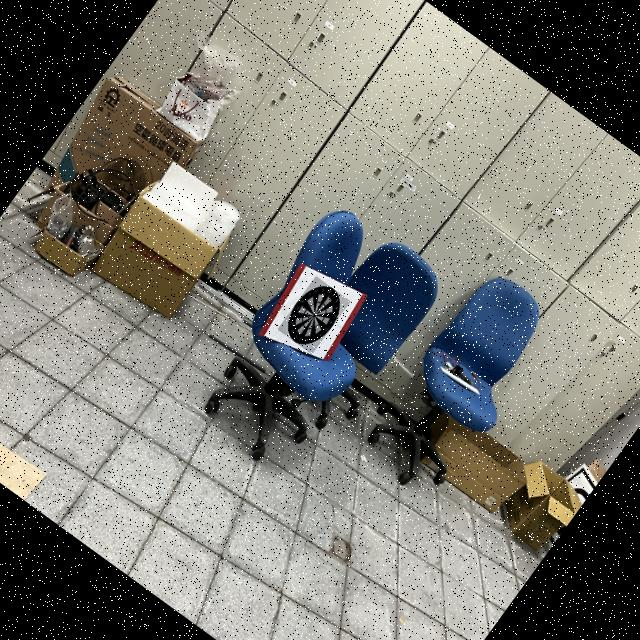archery-targets: (276, 276, 350, 354)
